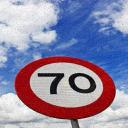speed_limit_70: (14, 57, 116, 120)
